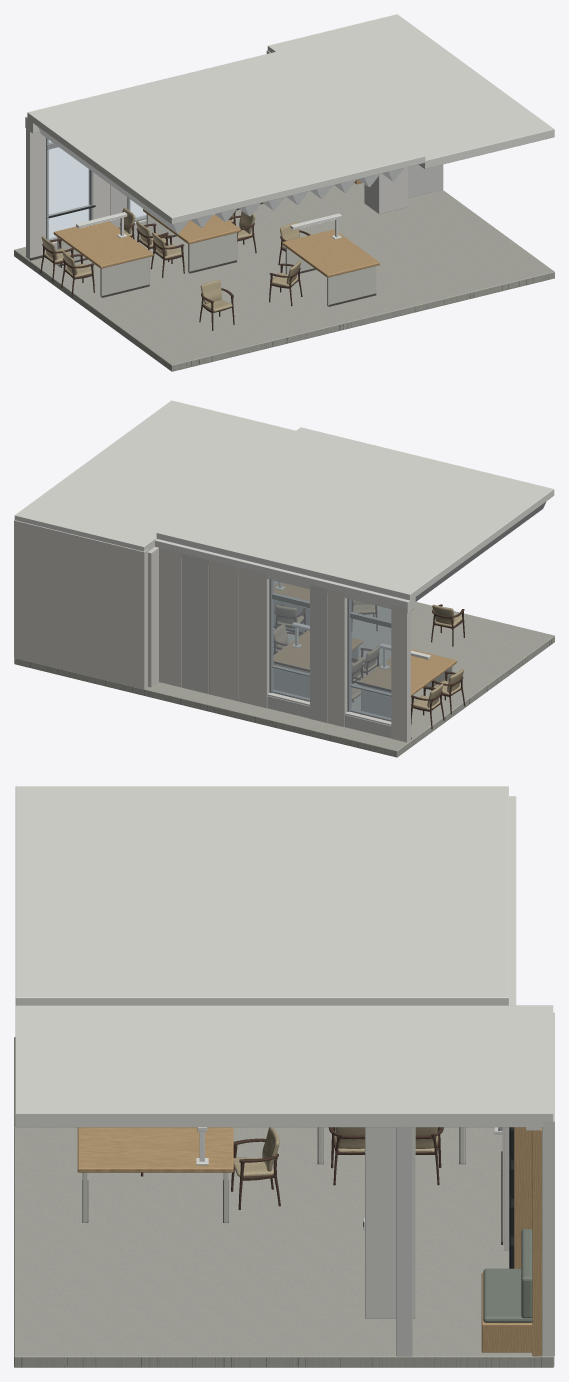
File: 图书馆阅览区.glb
3 renders of one model, top to bottom at view 1: azimuth 30°, elevation 25°; view 2: azimuth 150°, elevation 25°; view 3: azimuth 270°, elevation 25°, orthographic. The views are drawn at different scales.
Parts seen in each view (by area): view 1: 地坪 · 可见阅览区, 左侧顶板, 右侧吊平顶, 阅览桌 A · 浅木桌板, 阅览桌 C（近景） · 浅木桌板, 窗间白墙板 01, 窗 1 · 主采光玻璃, 右前景 · 白色柱体, 阅览桌 A · 近端白色挡板, 阅览桌 B · 近端白色挡板, 阅览桌 C（近景） · 近端白色挡板, 阅览桌 B · 浅木桌板 (+12 smaller); view 2: 左侧顶板, 右侧吊平顶, 卡座铺底墙, 地坪 · 可见阅览区, 窗间白墙板 04, 窗间白墙板 05, 窗间白墙板 06, 窗间白墙板 07, 窗上通长边梁, 窗 1 · 主采光玻璃, 窗间白墙板 02, 窗间白墙板 01 (+20 smaller); view 3: 左侧顶板, 地坪 · 可见阅览区, 右侧吊平顶, 阅览桌 C（近景） · 浅木桌板, 右前景 · 白色柱体, 右前景 · 柱旁隔断, 卡座铺底墙, 卡座背景木饰面, 展示墙 · 正面木饰板, 固定卡座 · 灰绿坐垫, 阅览椅 10, 固定卡座 · 木底台 (+5 smaller).
Part boxes in pixels (<box>): 地坪 · 可见阅览区: <box>14,183,554,371</box>; 左侧顶板: <box>27,50,425,224</box>; 右侧吊平顶: <box>267,14,554,168</box>; 阅览桌 A · 浅木桌板: <box>53,221,153,268</box>; 阅览桌 C（近景） · 浅木桌板: <box>282,229,379,277</box>; 窗间白墙板 01: <box>26,128,45,259</box>; 窗 1 · 主采光玻璃: <box>48,147,89,214</box>; 右前景 · 白色柱体: <box>364,167,407,214</box>; 阅览桌 A · 近端白色挡板: <box>100,257,149,297</box>; 阅览桌 B · 近端白色挡板: <box>188,232,237,273</box>; 阅览桌 C（近景） · 近端白色挡板: <box>327,266,376,306</box>; 阅览桌 B · 浅木桌板: <box>143,209,240,244</box>; 左侧顶板: <box>156,427,554,600</box>; 右侧吊平顶: <box>14,400,295,551</box>; 卡座铺底墙: <box>14,520,147,689</box>; 地坪 · 可见阅览区: <box>14,580,554,757</box>; 窗间白墙板 04: <box>238,567,269,708</box>; 窗间白墙板 05: <box>209,560,238,701</box>; 窗间白墙板 06: <box>181,553,208,693</box>; 窗间白墙板 07: <box>159,548,181,687</box>; 窗上通长边梁: <box>155,539,415,612</box>; 窗 1 · 主采光玻璃: <box>350,618,391,695</box>; 窗间白墙板 02: <box>327,589,347,727</box>; 窗间白墙板 01: <box>391,604,410,742</box>; 左侧顶板: <box>15,786,508,1005</box>; 地坪 · 可见阅览区: <box>14,1037,554,1367</box>; 右侧吊平顶: <box>15,1005,553,1127</box>; 阅览桌 C（近景） · 浅木桌板: <box>77,1127,233,1172</box>; 右前景 · 白色柱体: <box>365,1127,415,1318</box>; 右前景 · 柱旁隔断: <box>396,1126,412,1356</box>; 卡座铺底墙: <box>542,1012,554,1356</box>; 卡座背景木饰面: <box>532,1127,541,1356</box>; 展示墙 · 正面木饰板: <box>514,1127,532,1268</box>; 固定卡座 · 灰绿坐垫: <box>483,1268,532,1322</box>; 阅览椅 10: <box>231,1127,280,1209</box>; 固定卡座 · 木底台: <box>481,1273,532,1352</box>.
Bounding box in the file's own units: 9.52 × 3.6 × 6.72.
22 materials, 4 textured.
